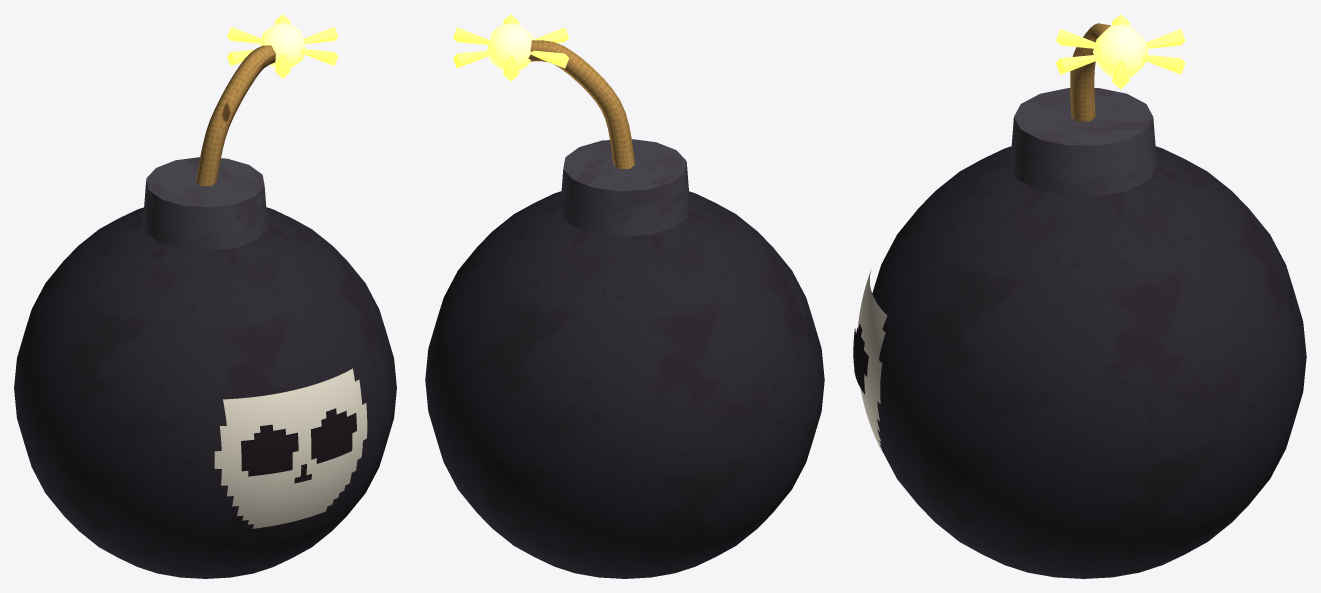
3 views of the same model, side by side, from view 1: azimuth 30°, elevation 25°; view 2: azimuth 150°, elevation 25°; view 3: azimuth 270°, elevation 25° (orthographic). The views are drawn at different scales.
Visible parts, largest first — view 1: Body; view 2: Body; view 3: Body.
Boxes of the visible parts, left/top/right/bottom form: Body: left=14, top=14, right=396, bottom=578; Body: left=425, top=14, right=824, bottom=578; Body: left=853, top=14, right=1306, bottom=578.
Bounding box in the file's own units: 0.48 × 0.695 × 0.4878.
Materials: 4 (2 with a texture image).
